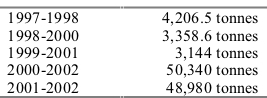column: (150, 2, 266, 97), (3, 1, 98, 98)
row: (1, 6, 267, 26), (2, 44, 265, 64), (2, 27, 265, 45), (3, 77, 266, 95), (2, 62, 266, 79)
